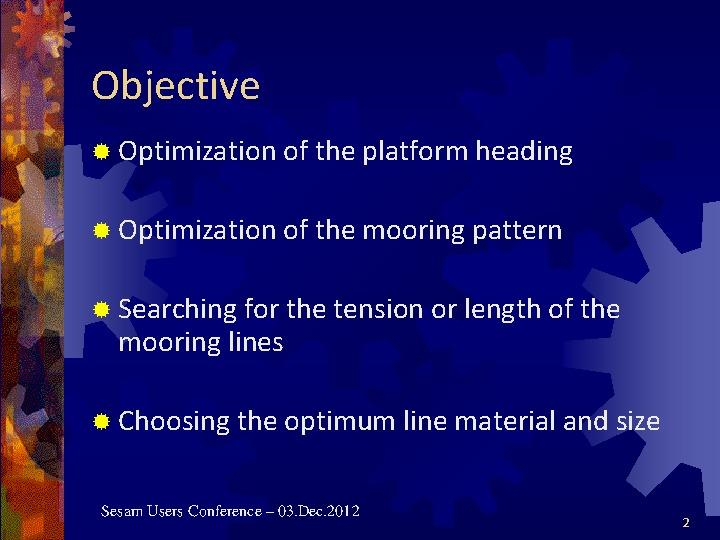paragraph: (86, 131, 699, 475)
title: (84, 56, 280, 115)
